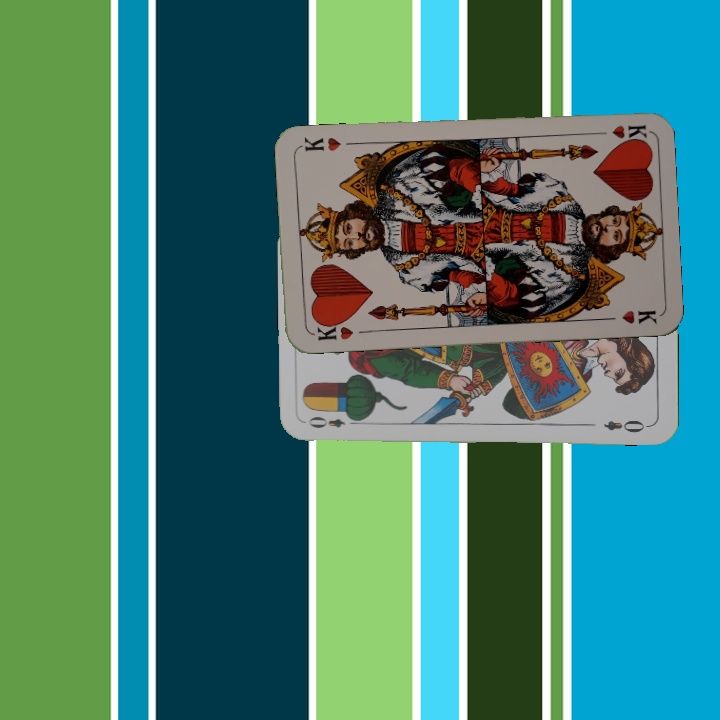EO: (304, 411, 362, 431)
HK: (589, 120, 648, 143), (308, 316, 356, 343)
